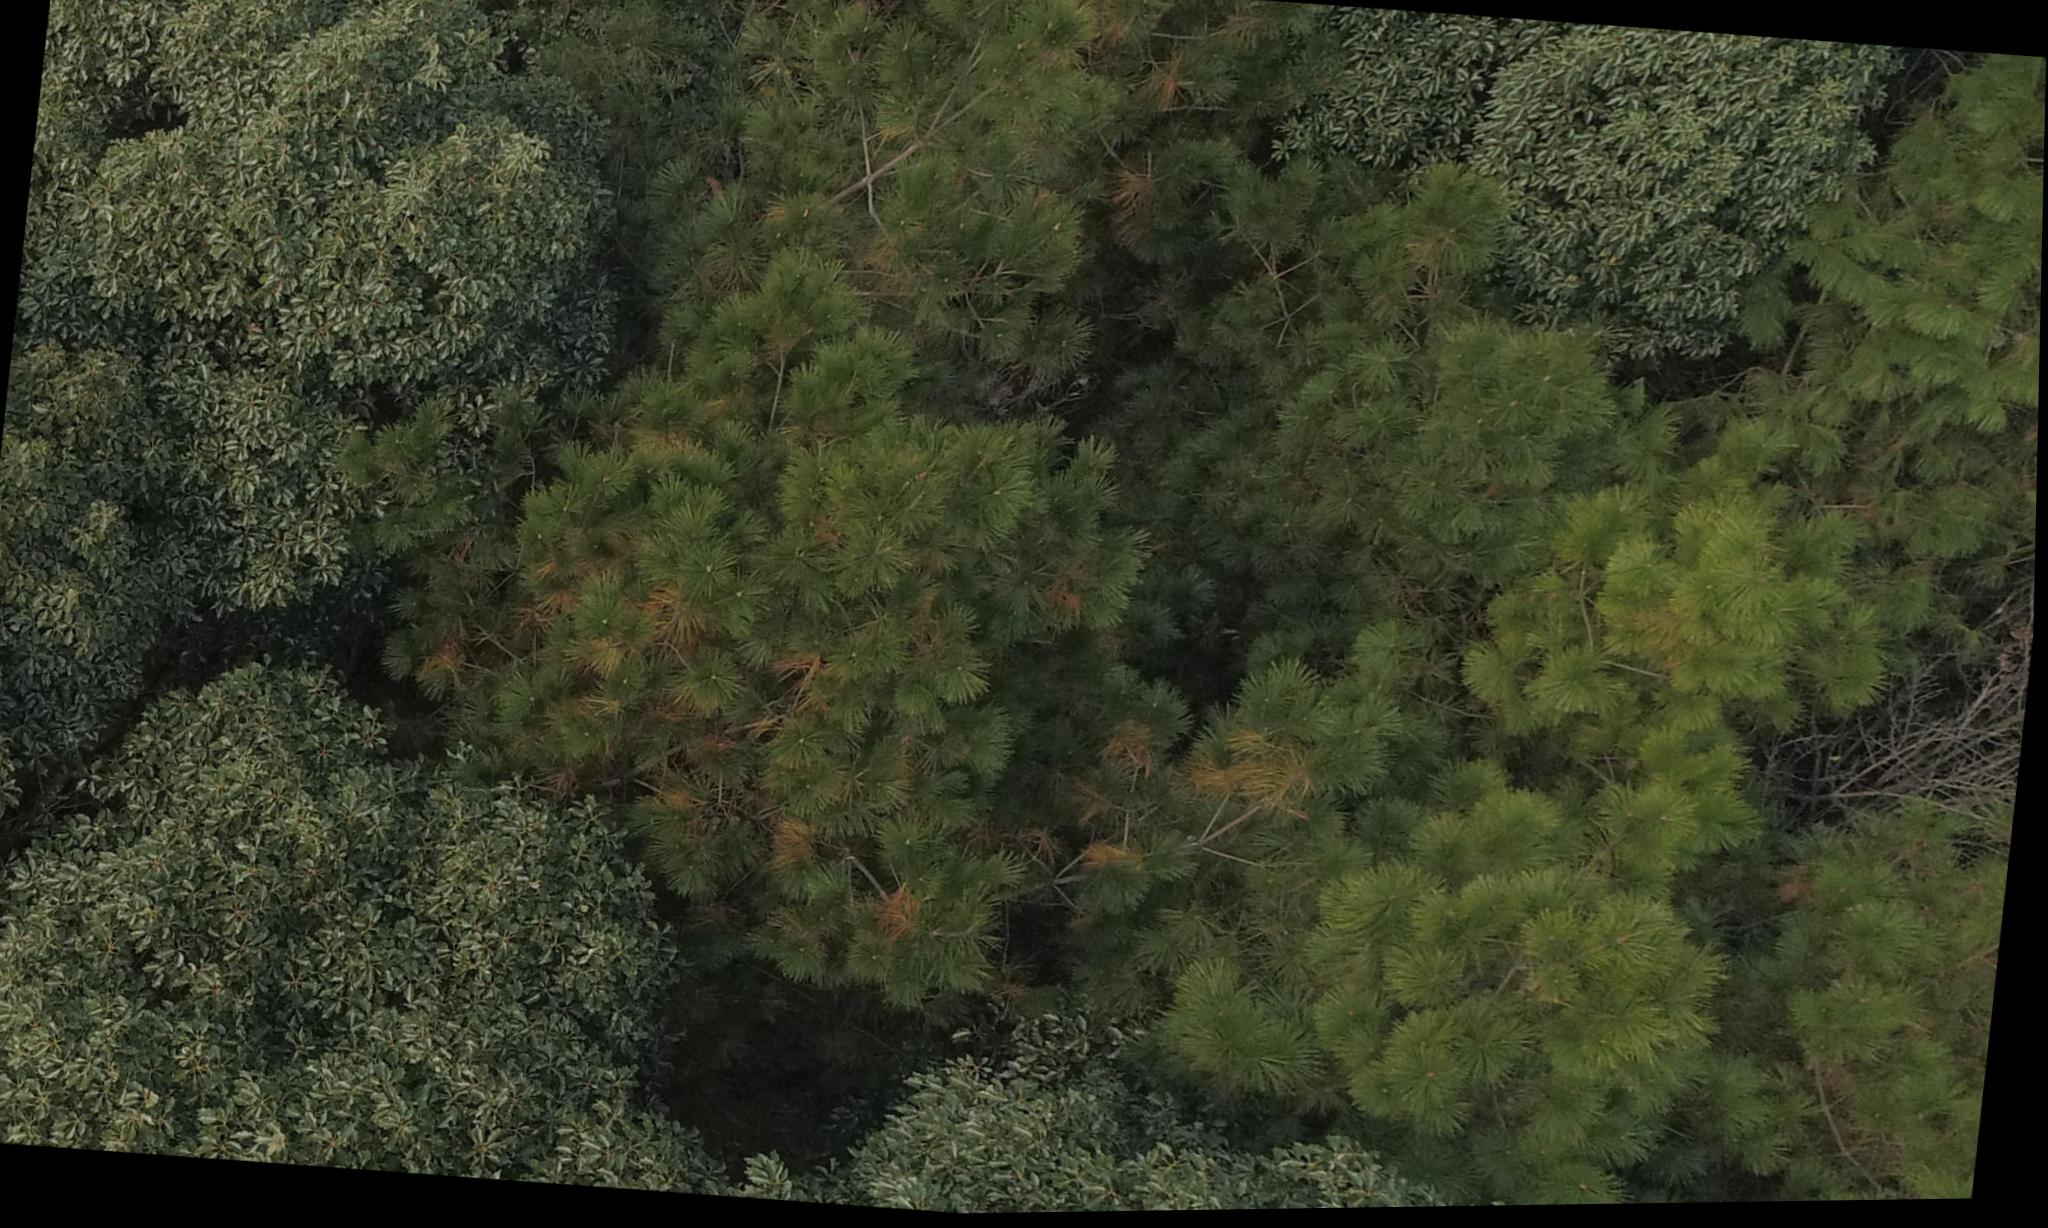light: (456, 101, 1414, 1041)
